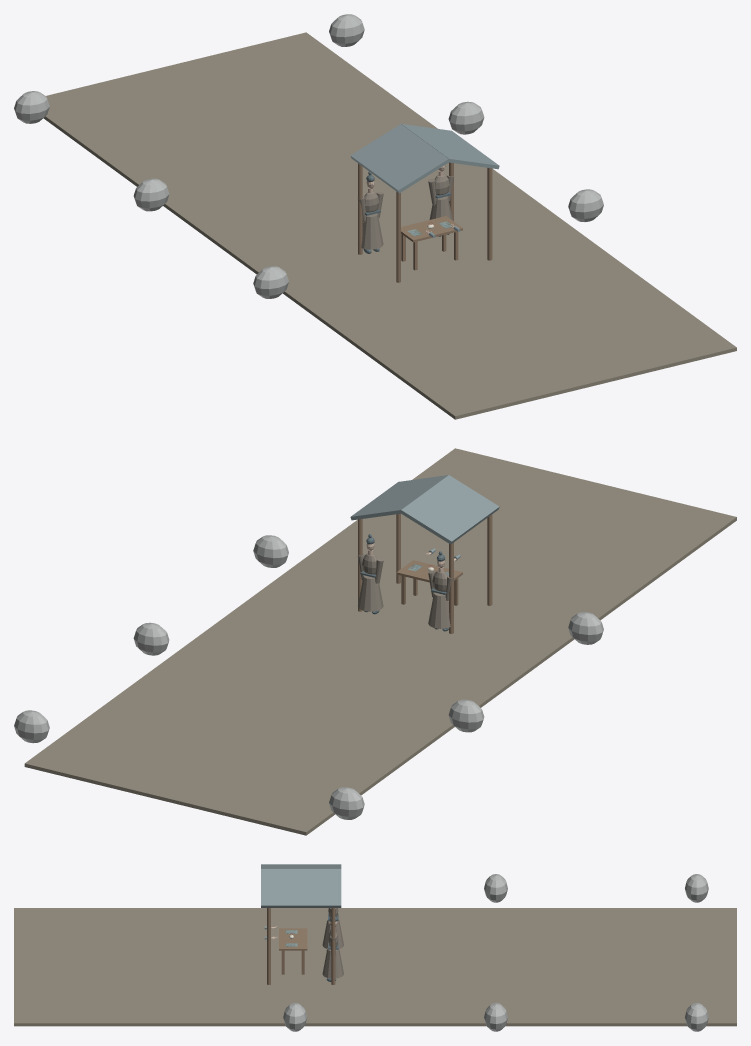
3 renders of one model, top to bottom at view 1: azimuth 30°, elevation 25°; view 2: azimuth 150°, elevation 25°; view 3: azimuth 270°, elevation 25°, orthographic. The views are drawn at different scales.
Parts seen in each view (by area): view 1: roadbed (×6), rock (×6), roof_left, roof_right, tabletop, robe_skirt; view 2: roadbed (×6), rock (×6), roof_left, roof_right, robe_skirt (×2); view 3: roadbed (×6), roof_right, rock (×5), post (×2), tabletop, robe_skirt, roof_left.
Boxes of the visible parts, left/top/right/bottom form: roadbed (×6): left=43, top=32, right=736, bottom=419; rock (×6): left=14, top=14, right=603, bottom=298; roof_left: left=350, top=124, right=449, bottom=193; roof_right: left=401, top=124, right=499, bottom=169; tabletop: left=401, top=216, right=462, bottom=242; robe_skirt: left=361, top=213, right=383, bottom=249; roadbed (×6): left=24, top=448, right=736, bottom=835; rock (×6): left=14, top=535, right=603, bottom=819; roof_left: left=400, top=475, right=499, bottom=544; roof_right: left=350, top=475, right=448, bottom=520; robe_skirt (×2): left=358, top=575, right=450, bottom=628; roadbed (×6): left=14, top=908, right=736, bottom=1026; roof_right: left=261, top=869, right=341, bottom=907; rock (×5): left=283, top=874, right=708, bottom=1031; post (×2): left=267, top=908, right=335, bottom=984; tabletop: left=279, top=928, right=307, bottom=950; robe_skirt: left=322, top=948, right=343, bottom=978; roof_left: left=261, top=864, right=341, bottom=868.
Bounding box in the file's own units: 8.4 × 2.74 × 18.
Materials: 12 (2 with a texture image).
